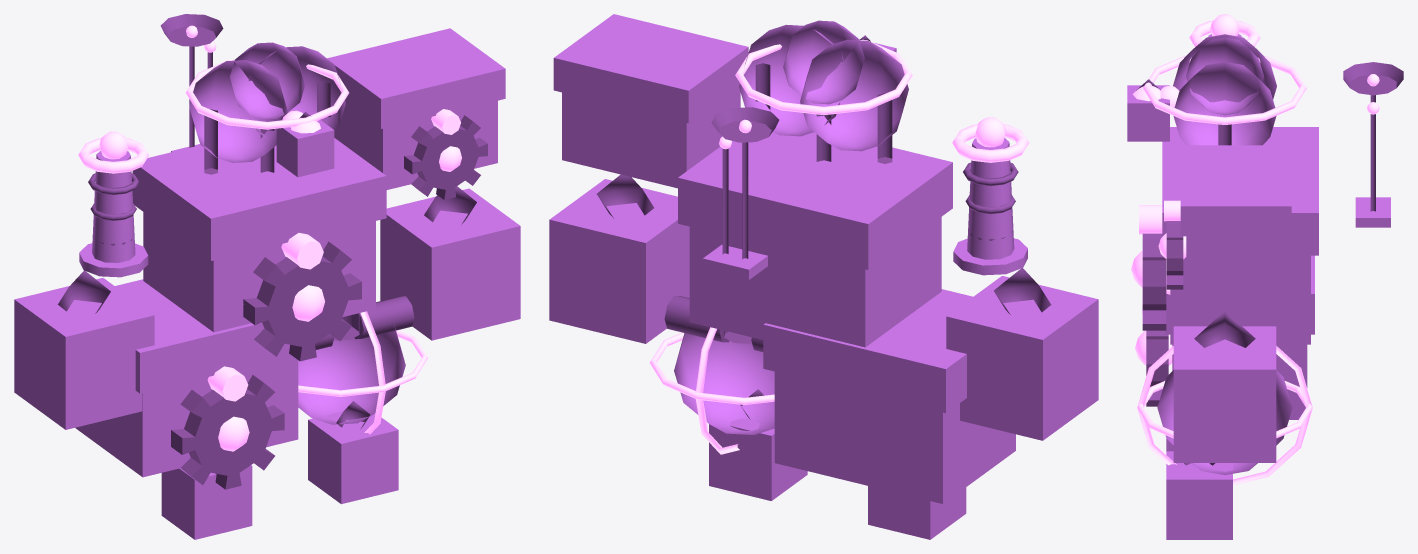
The model's file is golem_133.glb.
The picture shows the model from 3 angles, left to right: view 1: azimuth 30°, elevation 25°; view 2: azimuth 150°, elevation 25°; view 3: azimuth 270°, elevation 25°; orthographic projection. The views are drawn at different scales.
Parts seen in each view (by area): view 1: Body, Detail, Glow; view 2: Body, Detail, Glow; view 3: Body, Glow, Detail.
Part boxes in pixels (box(x1,y1,x2,y2)): Body: box(14, 28, 520, 539); Detail: box(58, 14, 487, 489); Glow: box(78, 25, 461, 451); Body: box(549, 14, 1098, 539); Detail: box(597, 35, 1051, 419); Glow: box(649, 39, 1029, 454); Body: box(1127, 34, 1390, 539); Glow: box(1131, 14, 1379, 485); Detail: box(1136, 62, 1403, 465).
Bounding box in the file's own units: 1.19 × 1.12 × 0.6251.
